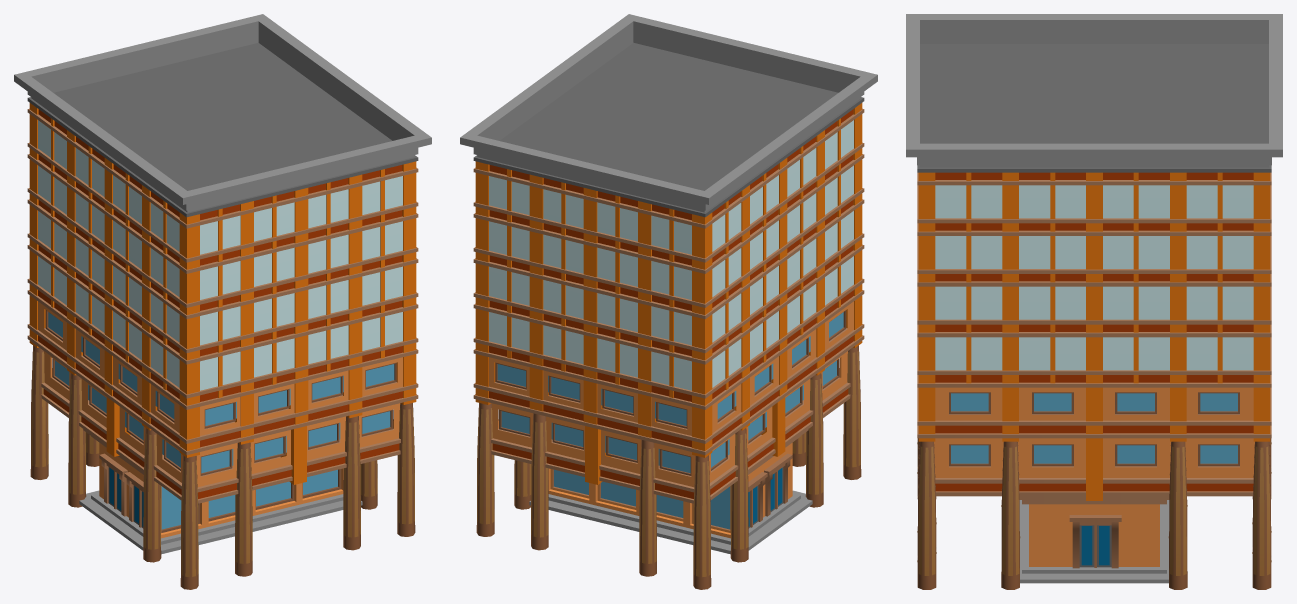
3 views of the same model, side by side, from view 1: azimuth 30°, elevation 25°; view 2: azimuth 150°, elevation 25°; view 3: azimuth 270°, elevation 25° (orthographic). The views are drawn at different scales.
Parts seen in each view (by area): view 1: Building_13C; view 2: Building_13C; view 3: Building_13C.
Part boxes in pixels (x1,y1,x2,y2): Building_13C: [14, 14, 431, 589]; Building_13C: [460, 14, 877, 589]; Building_13C: [906, 14, 1282, 589].
Bounding box in the file's own units: 22581 × 34558 × 26508.
